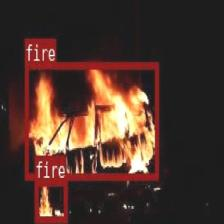fire: (24, 61, 158, 178), (34, 178, 66, 222)
